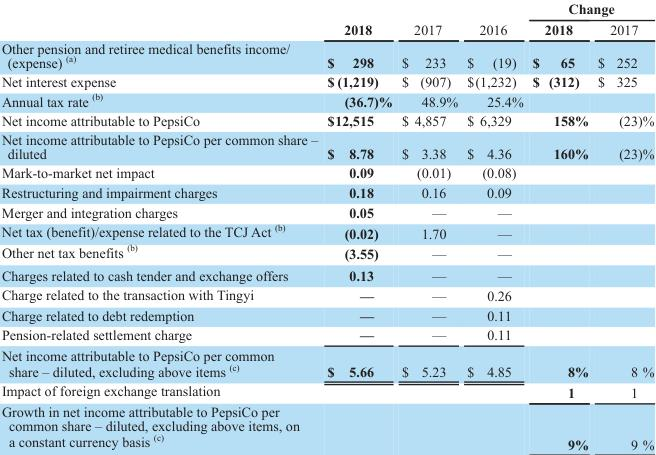table: (0, 0, 653, 452)
table column: (0, 0, 321, 452), (321, 0, 396, 452), (461, 0, 527, 452), (396, 0, 461, 452), (527, 0, 592, 452), (592, 0, 653, 452)
table column header: (0, 0, 653, 38)
table row: (0, 401, 653, 452), (0, 344, 653, 380), (0, 38, 653, 71), (0, 129, 653, 162), (0, 241, 653, 264), (0, 220, 653, 241), (0, 284, 653, 305), (0, 380, 653, 401), (0, 18, 653, 38), (0, 90, 653, 110), (0, 162, 653, 182), (0, 182, 653, 202), (0, 264, 653, 284), (0, 324, 653, 344), (0, 71, 653, 90), (0, 110, 653, 129), (0, 305, 653, 324), (0, 0, 653, 18), (0, 202, 653, 220)
table spanning cell: (321, 0, 396, 38), (461, 0, 527, 38), (396, 0, 461, 38), (527, 0, 653, 18)
